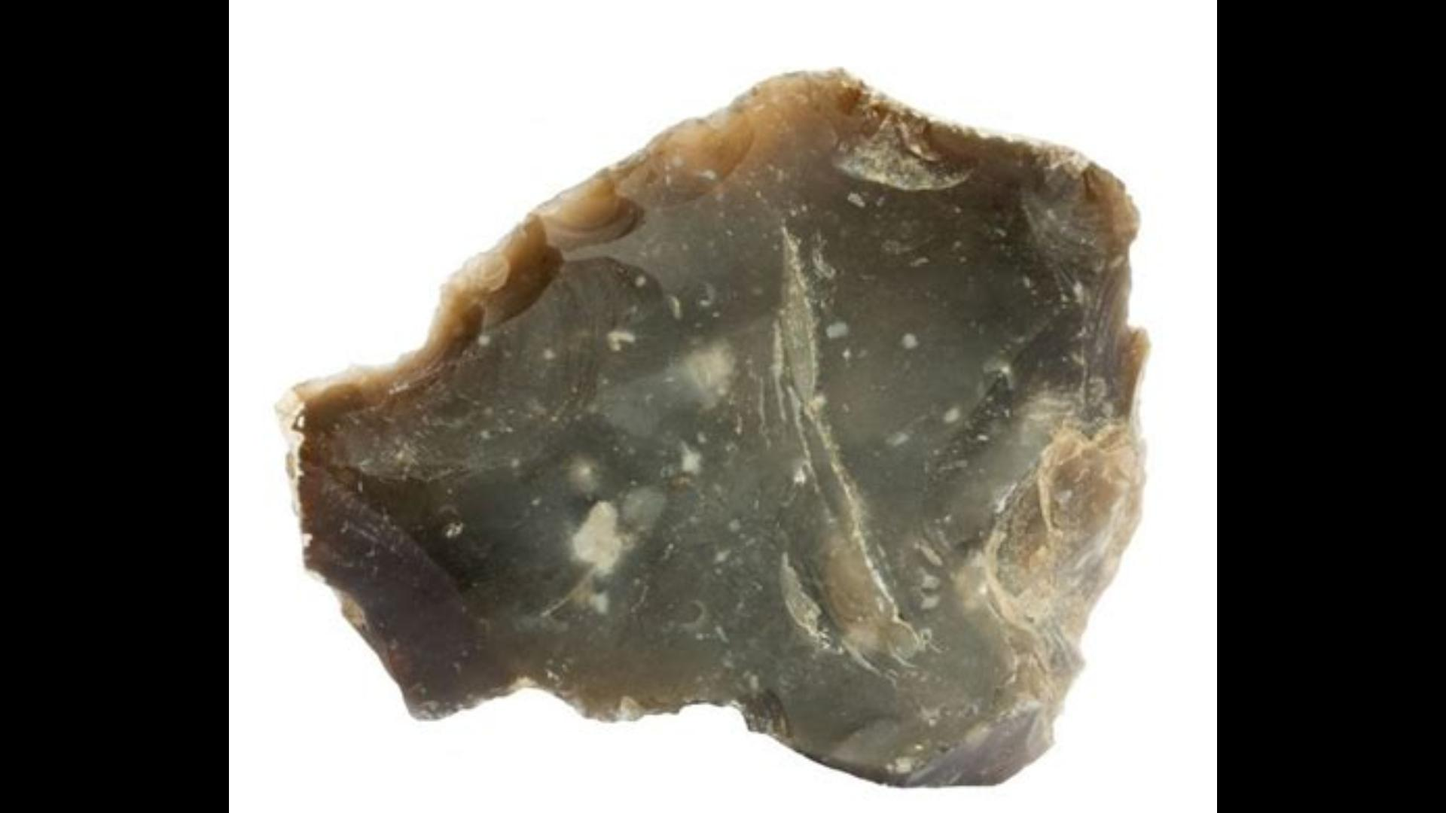rock: (283, 71, 1145, 775)
